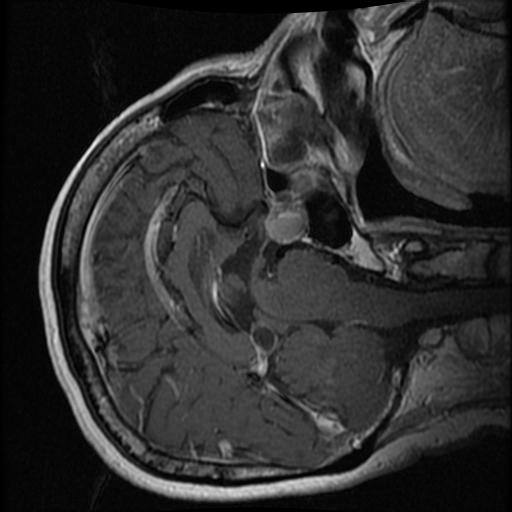pituitary tumour: (265, 207, 305, 242)
